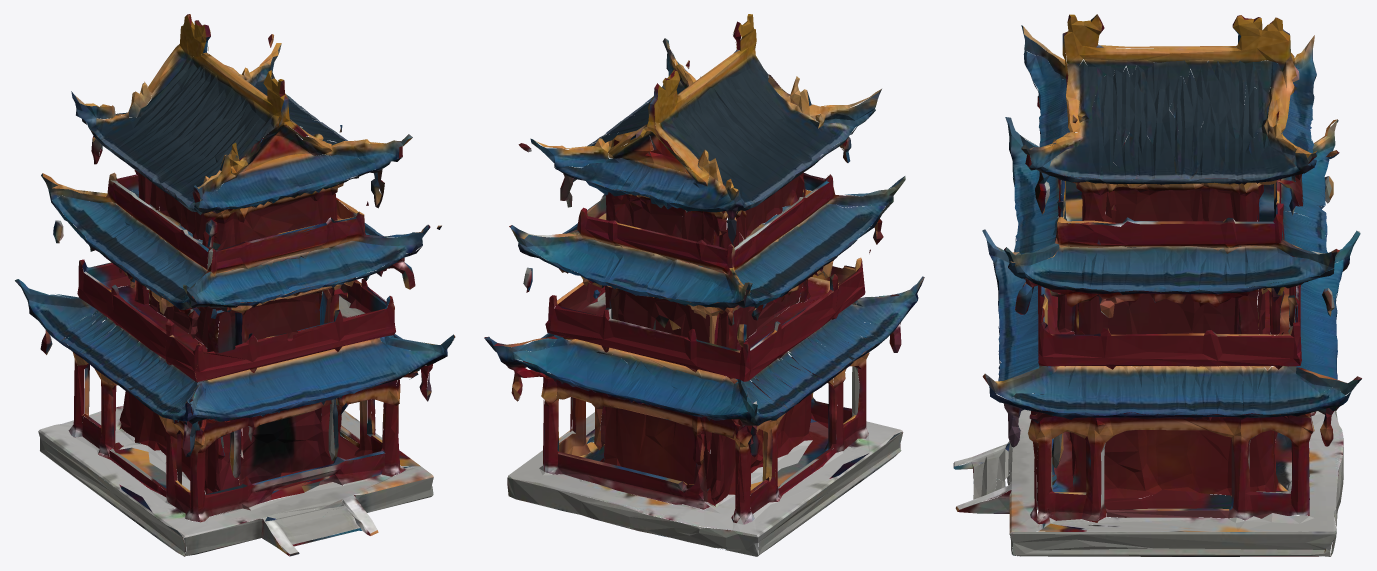
File: 11_xiulou_tower.glb
3 views of the same model, side by side, from view 1: azimuth 30°, elevation 25°; view 2: azimuth 150°, elevation 25°; view 3: azimuth 270°, elevation 25° (orthographic). The views are drawn at different scales.
Parts seen in each view (by area): view 1: 11_xiulou_tower.ply; view 2: 11_xiulou_tower.ply; view 3: 11_xiulou_tower.ply.
Boxes of the visible parts, x1,y1,x2,y2 form: 11_xiulou_tower.ply: [15, 14, 455, 556]; 11_xiulou_tower.ply: [484, 14, 924, 556]; 11_xiulou_tower.ply: [953, 14, 1361, 556].
Bounding box in the file's own units: 0.6691 × 1 × 0.7796.
1 material, 1 textured.
